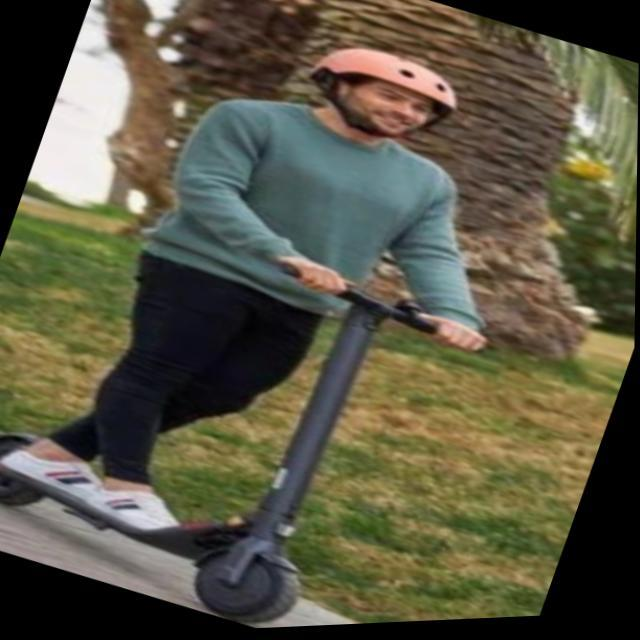Helmet: (303, 38, 465, 146)
